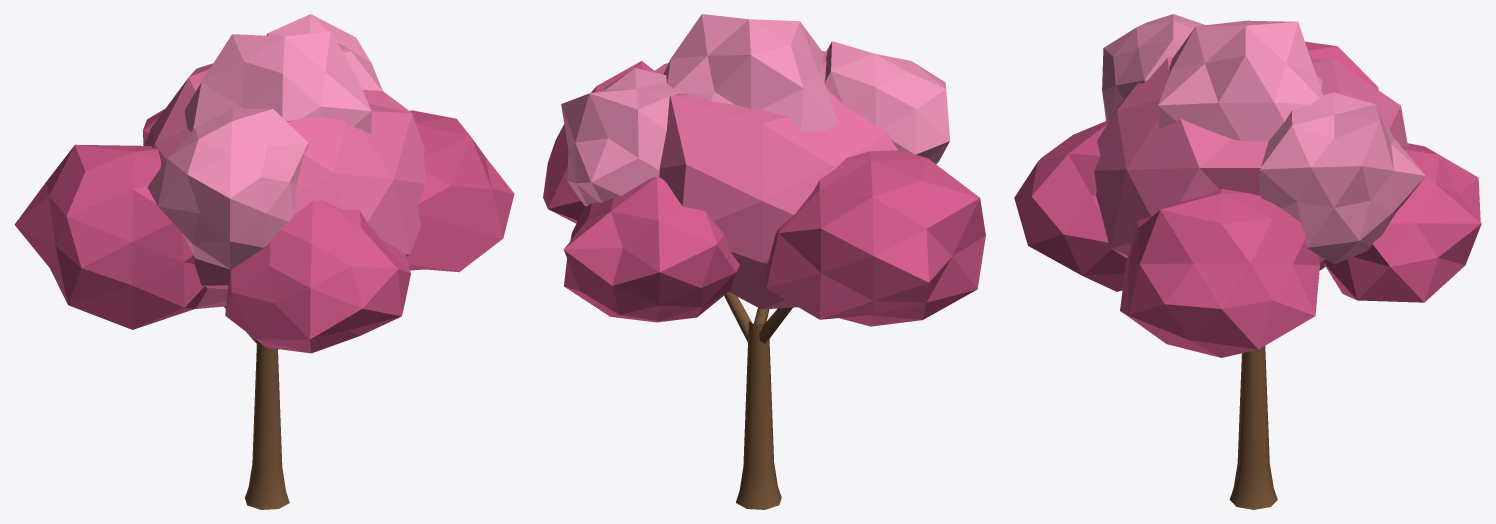
The model's file is arvore-ipe-rosa.glb.
3 views of the same model, side by side, from view 1: azimuth 30°, elevation 25°; view 2: azimuth 150°, elevation 25°; view 3: azimuth 270°, elevation 25° (orthographic). The views are drawn at different scales.
Visible parts, largest first — view 1: Copa, Tronco; view 2: Copa, Tronco; view 3: Copa, Tronco.
Boxes of the visible parts, bbox=[...] form: Copa: bbox=[14, 14, 514, 353]; Tronco: bbox=[224, 306, 289, 509]; Copa: bbox=[543, 14, 985, 326]; Tronco: bbox=[724, 292, 792, 509]; Copa: bbox=[1014, 14, 1481, 357]; Tronco: bbox=[1229, 346, 1277, 509].
Bounding box in the file's own units: 6.3 × 6.59 × 5.81.
